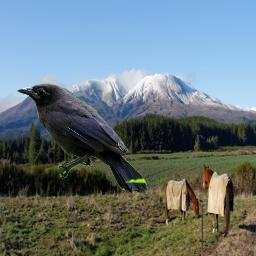Crow: (17, 83, 148, 194)
